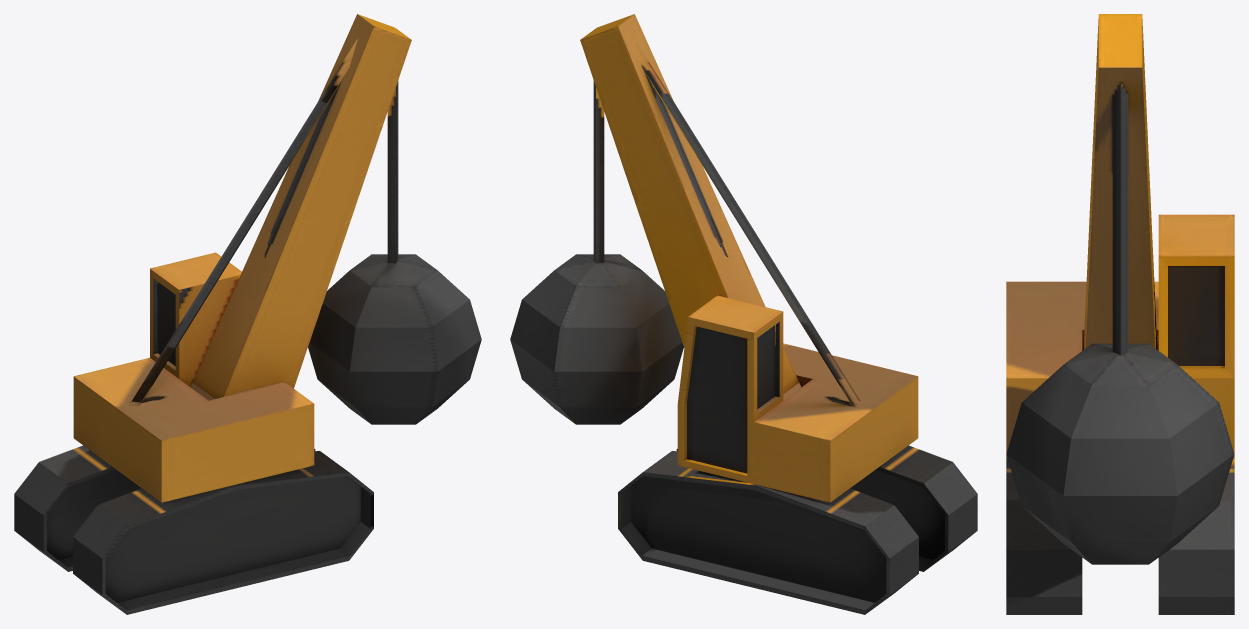
Rendered from Wrecking_Crane.glb.
The picture shows the model from 3 angles, left to right: view 1: azimuth 30°, elevation 25°; view 2: azimuth 150°, elevation 25°; view 3: azimuth 270°, elevation 25°; orthographic projection. The views are drawn at different scales.
Visible parts, largest first — view 1: Wrecking_Crane.Bake; view 2: Wrecking_Crane.Bake; view 3: Wrecking_Crane.Bake.
Part boxes in pixels (<box>): Wrecking_Crane.Bake: <box>14,14,481,614</box>; Wrecking_Crane.Bake: <box>510,14,977,614</box>; Wrecking_Crane.Bake: <box>1006,14,1234,614</box>.
Size of the model in its own units: 1.27 by 1.5 by 0.484.
1 material, 1 textured.
